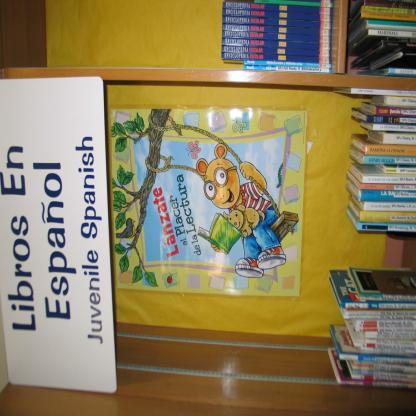book: (332, 88, 416, 236), (328, 266, 416, 390), (222, 0, 335, 75), (346, 0, 416, 77), (345, 204, 416, 230)
